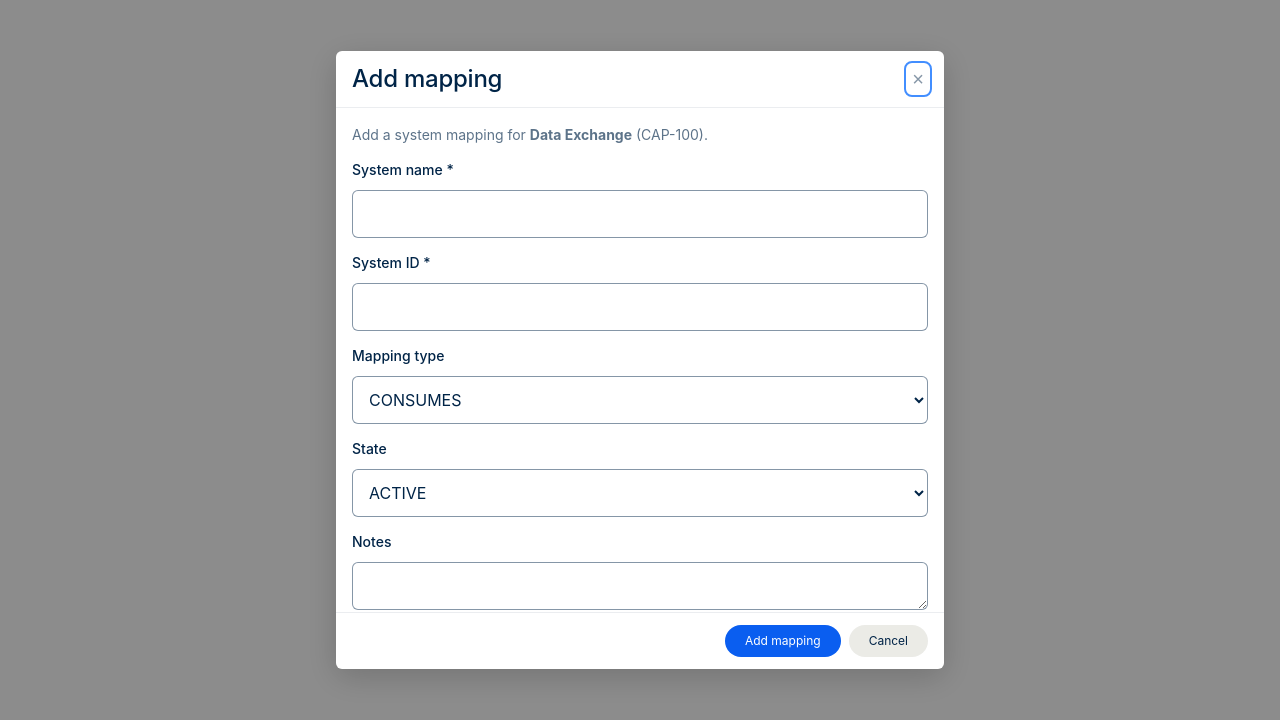
Test: AddMappingDialog › shows a validation error when system ID is empty
The image size is (1280, 720).
In the field labelled "System name *": (640, 214) [352,190,928,238], type "ERP Core"
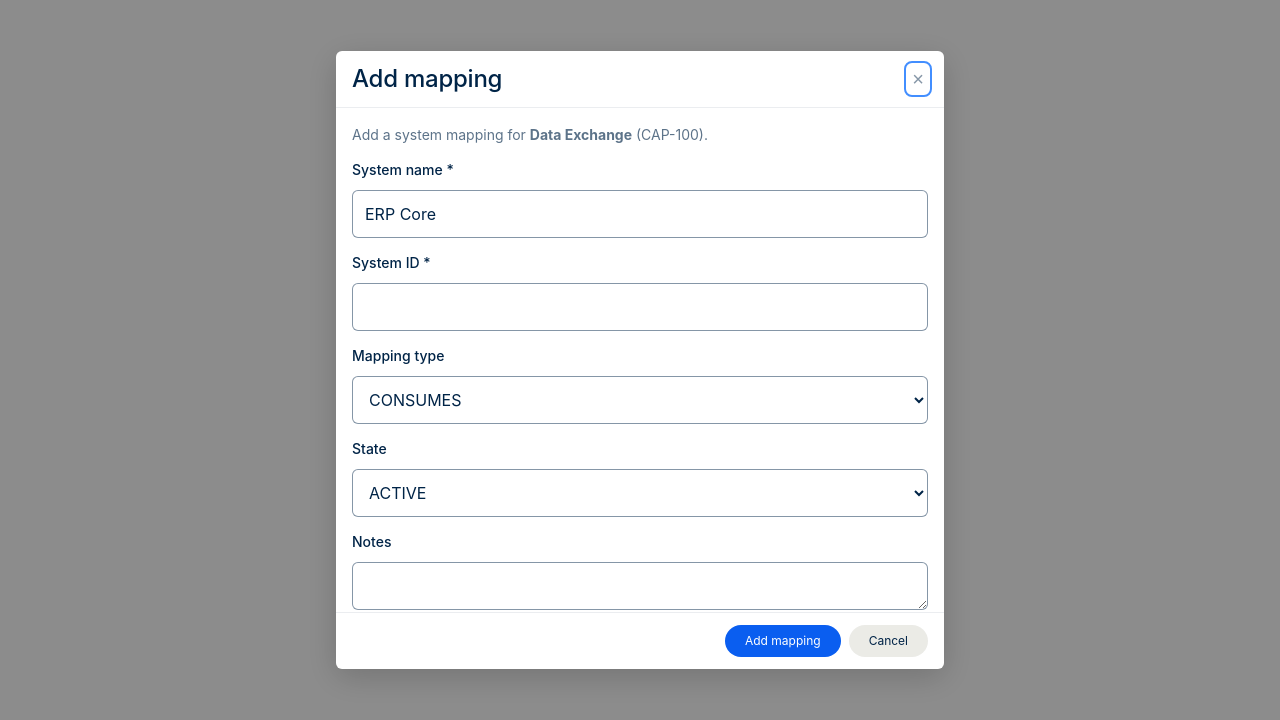
Click the button "Add mapping": (783, 641) [725,625,841,657]
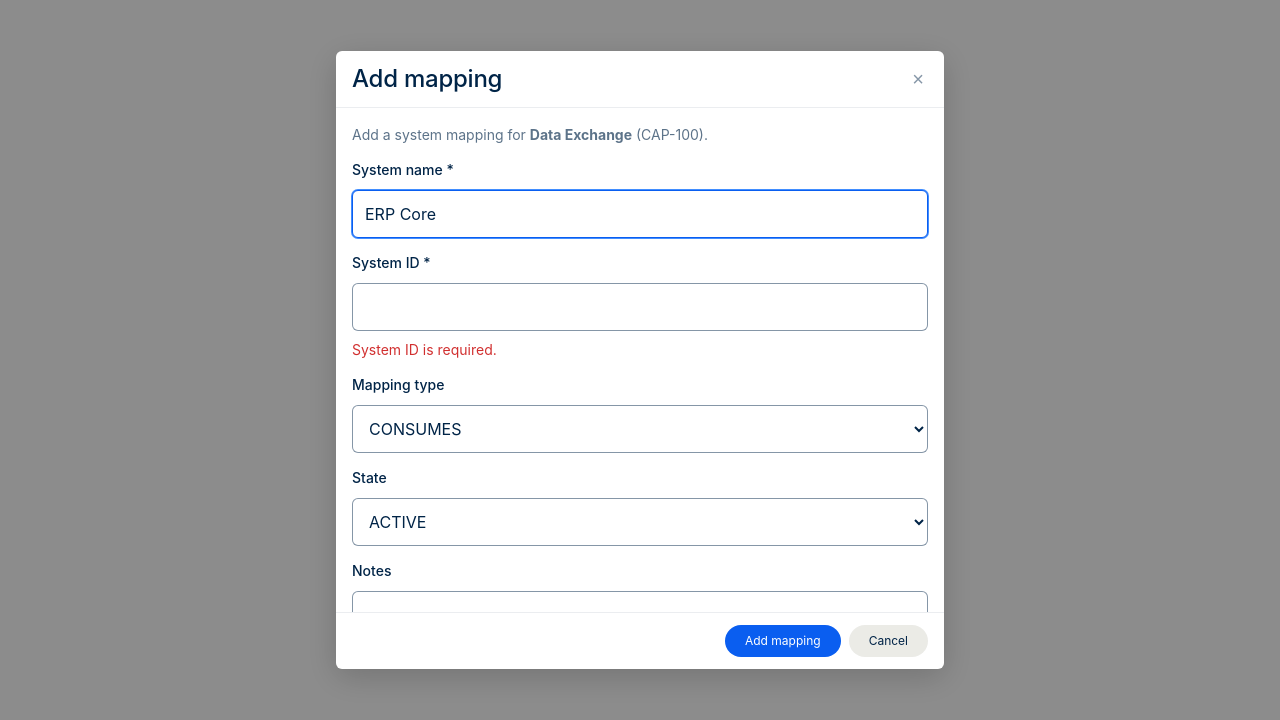
Check: the text "System ID is required." is shown, box [352,341,497,358]
